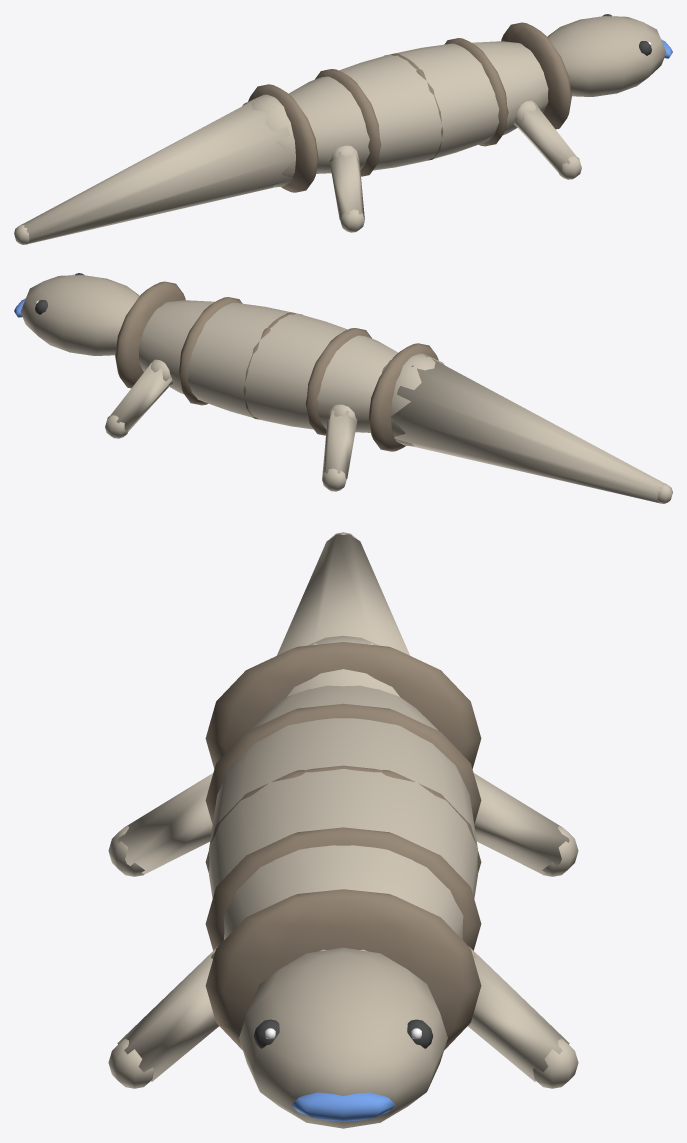
File: eastern-blue-tongued-skink.glb
3 views of the same model, one above another, from view 1: azimuth 30°, elevation 25°; view 2: azimuth 150°, elevation 25°; view 3: azimuth 270°, elevation 25° (orthographic). The views are drawn at different scales.
Visible parts, largest first — view 1: e, e.006, e.016; view 2: e, e.006, e.016; view 3: e, e.016, e.006, e.021.
Boxes of the visible parts, left/top/right/bottom form: e: left=248, top=22, right=581, bottom=232; e.006: left=14, top=94, right=304, bottom=244; e.016: left=547, top=14, right=666, bottom=96; e: left=105, top=281, right=438, bottom=491; e.006: left=382, top=353, right=672, bottom=503; e.016: left=20, top=273, right=139, bottom=355; e: left=108, top=642, right=578, bottom=1088; e.016: left=239, top=947, right=447, bottom=1128; e.006: left=277, top=532, right=409, bottom=696; e.021: left=291, top=1092, right=395, bottom=1121.
Size of the model in its own units: 1.44 by 0.227 by 0.45.
